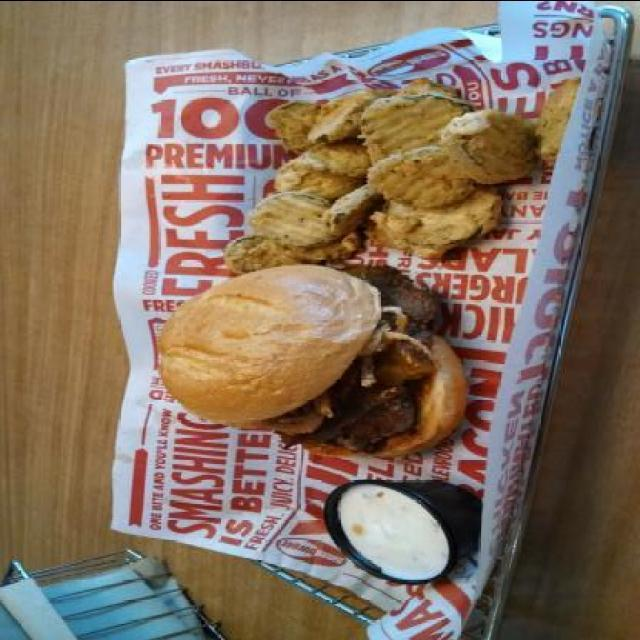Hamburger: (158, 263, 472, 457)
